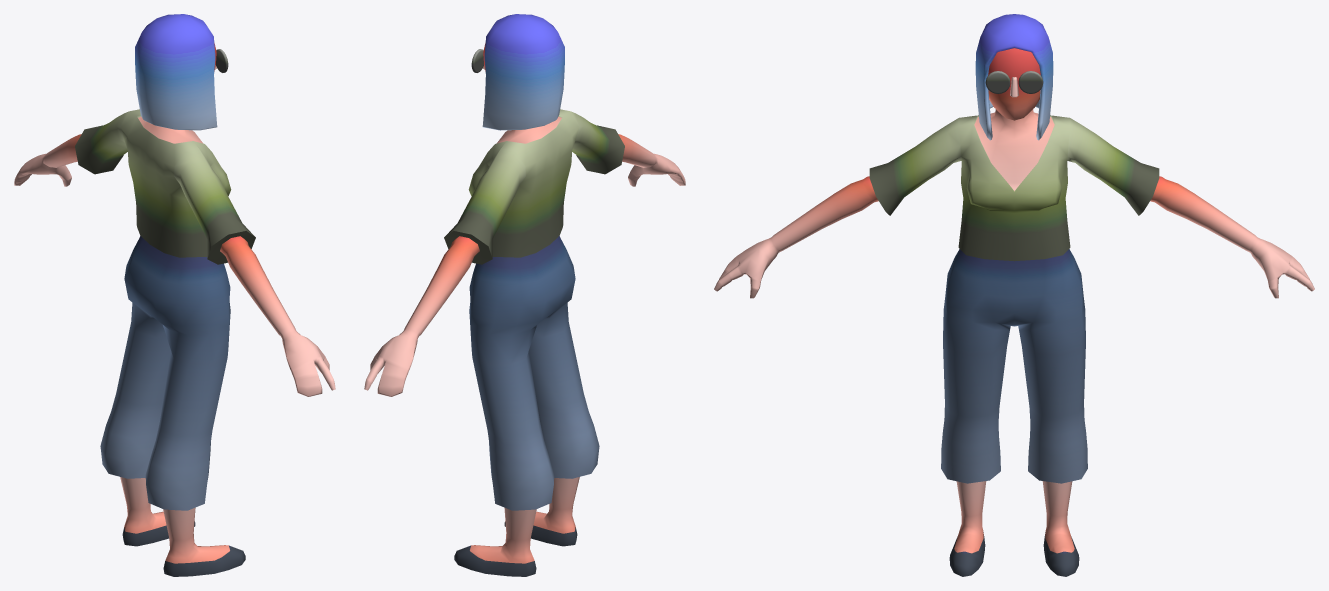
Rendered from woman.glb.
The picture shows the model from 3 angles, left to right: view 1: azimuth 30°, elevation 25°; view 2: azimuth 150°, elevation 25°; view 3: azimuth 270°, elevation 25°; orthographic projection.
Visible parts, largest first — view 1: char53x2; view 2: char53x2; view 3: char53x2.
Part boxes in pixels (box(x1,y1,x2,y2)): char53x2: box(14, 14, 335, 576); char53x2: box(364, 14, 685, 576); char53x2: box(714, 14, 1314, 576).
Bounding box in the file's own units: 0.7576 × 4.12 × 4.17.
1 material, 1 textured.
